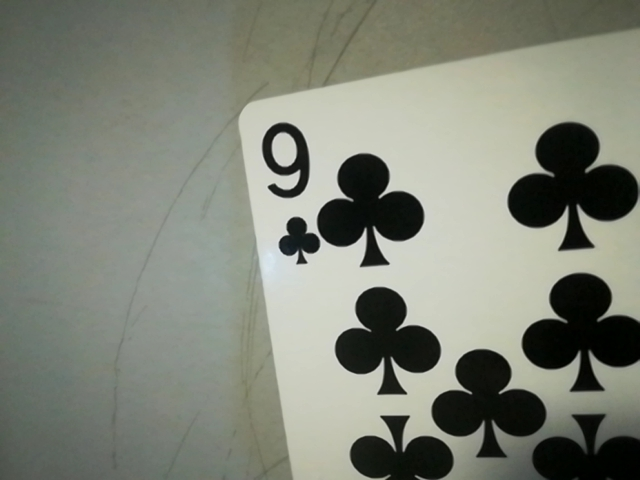mh 9: (253, 109, 322, 271)
